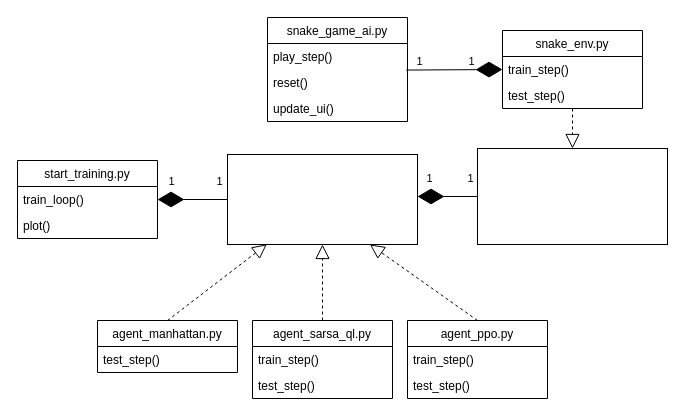
Image size: 685x419. Some labels were removed from this diagram. The centre of each missing label's shape, as x and y in pixels:
<<Interface>> Agent train_step() test_step(): (322,199)
<<Interface>> gym.Env get_state() step() reset(): (572,196)
